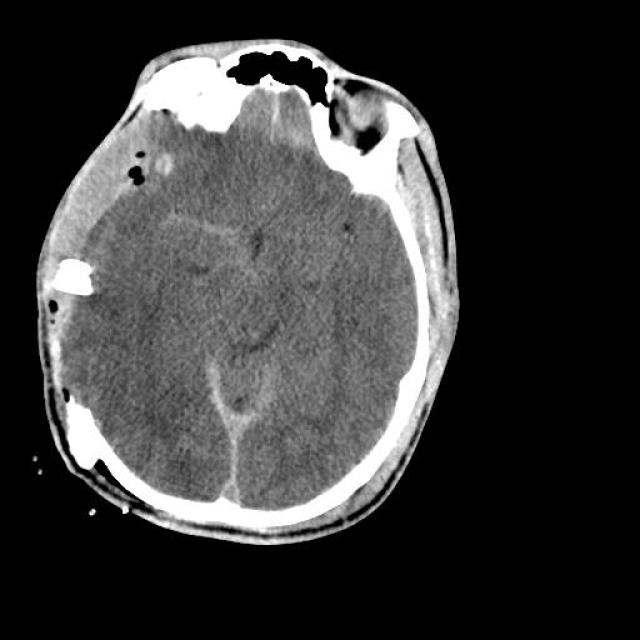Subdural: (178, 366, 298, 524)
